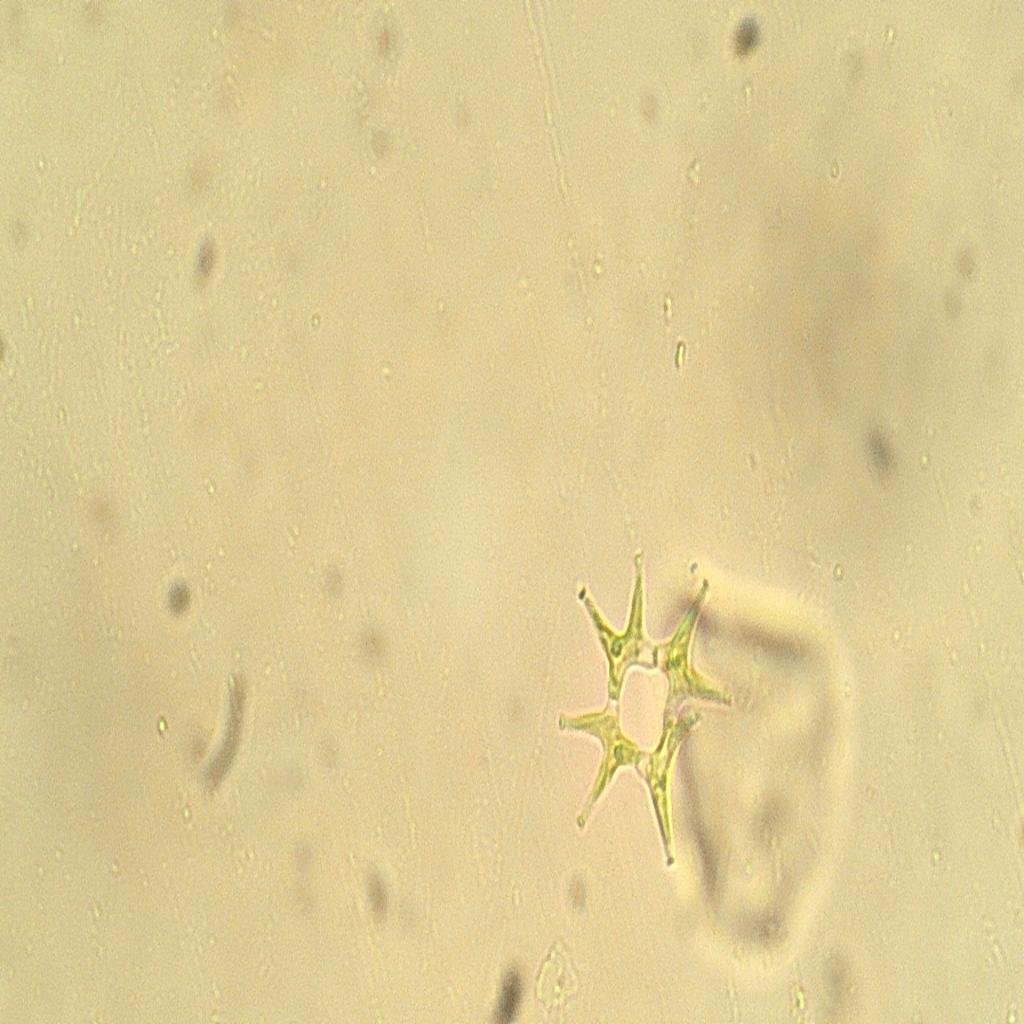Pediastrum_CO: (541, 520, 736, 898)
